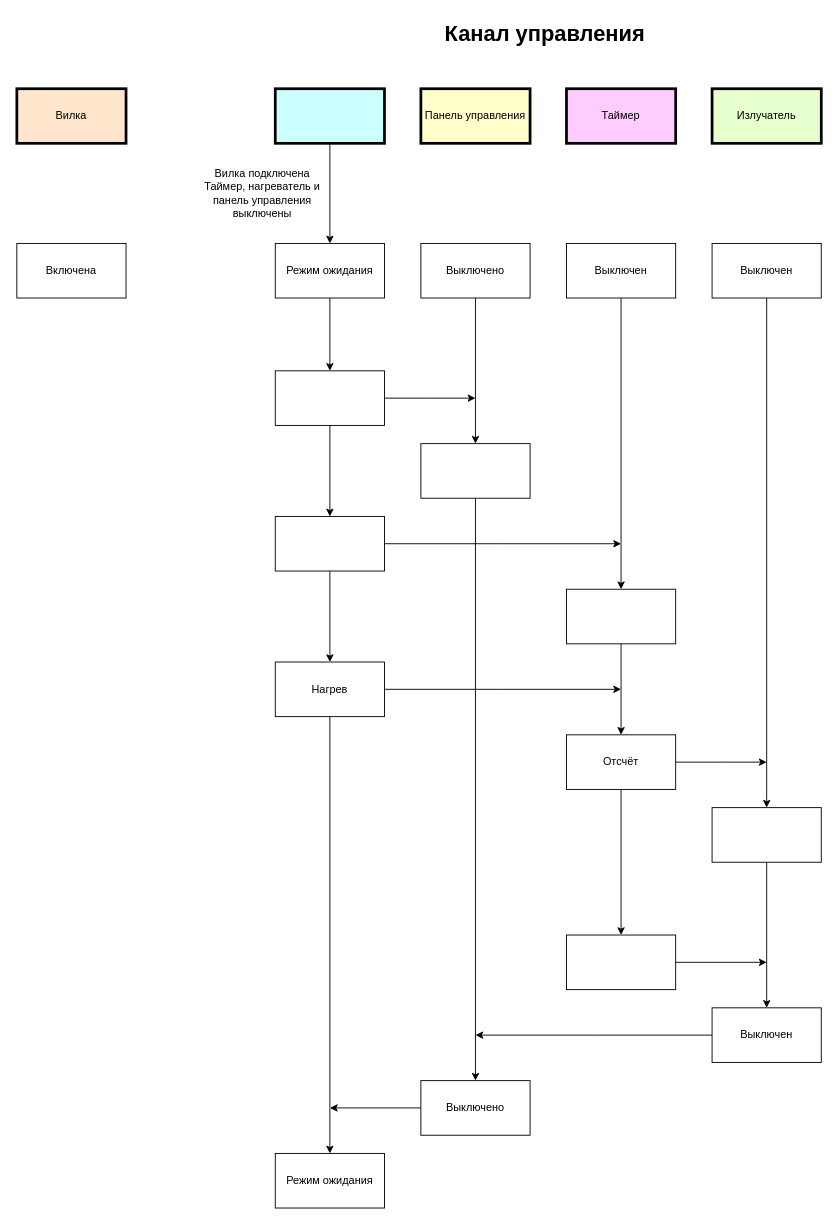
The diagram is 838 pixels wide and 1224 high, and some of its shapes have lost their labels. Each missing label, with the centre of its shape:
"Включен" belongs at (766,834).
"Включено" belongs at (475,470).
"Выбор режима" belongs at (329,397).
"Микроволновка" belongs at (329,115).
"Отсчёт закончен" belongs at (621,962).
"Таймер установлен" belongs at (621,616).
"Установка таймера" belongs at (329,543).
